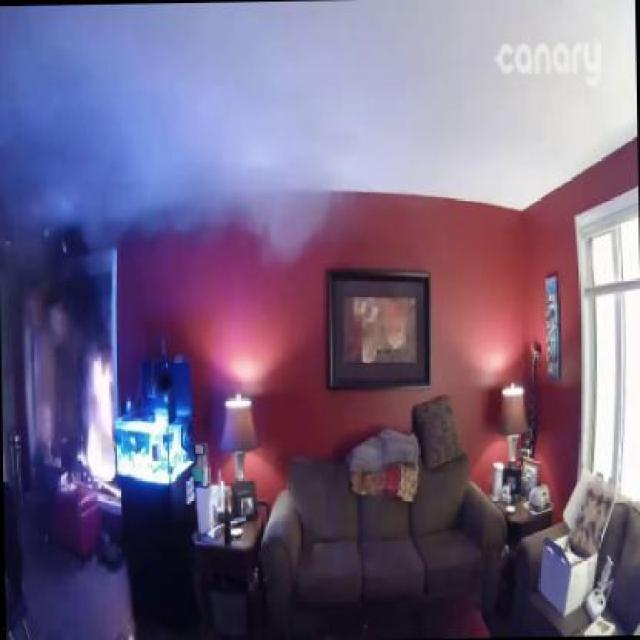fire: (0, 6, 363, 269)
